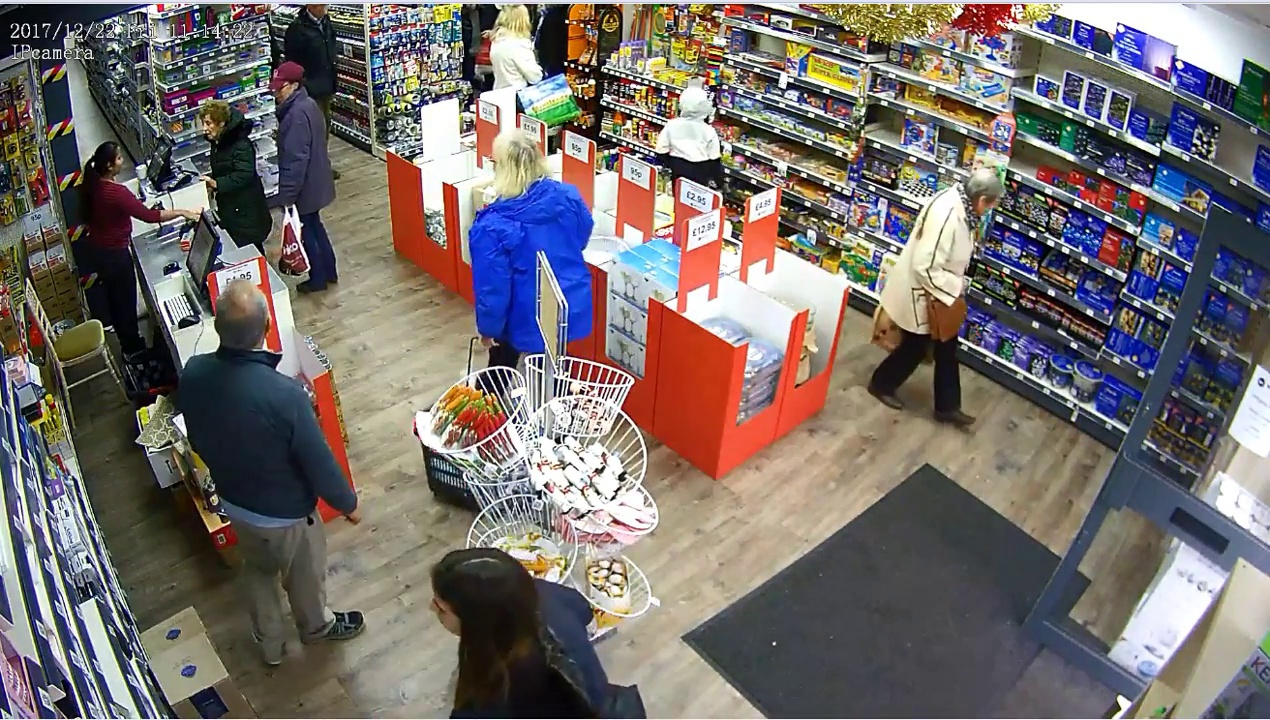face: (428, 581, 457, 636), (200, 110, 221, 144), (105, 146, 126, 175)
